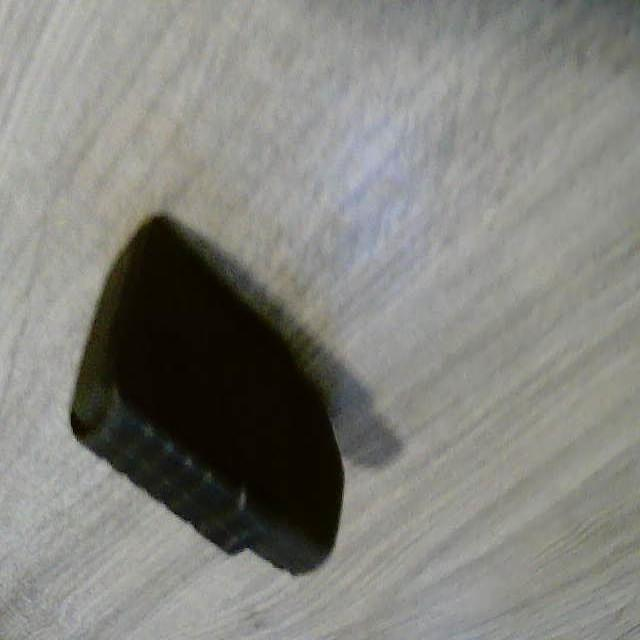borracha: (43, 199, 368, 621)
